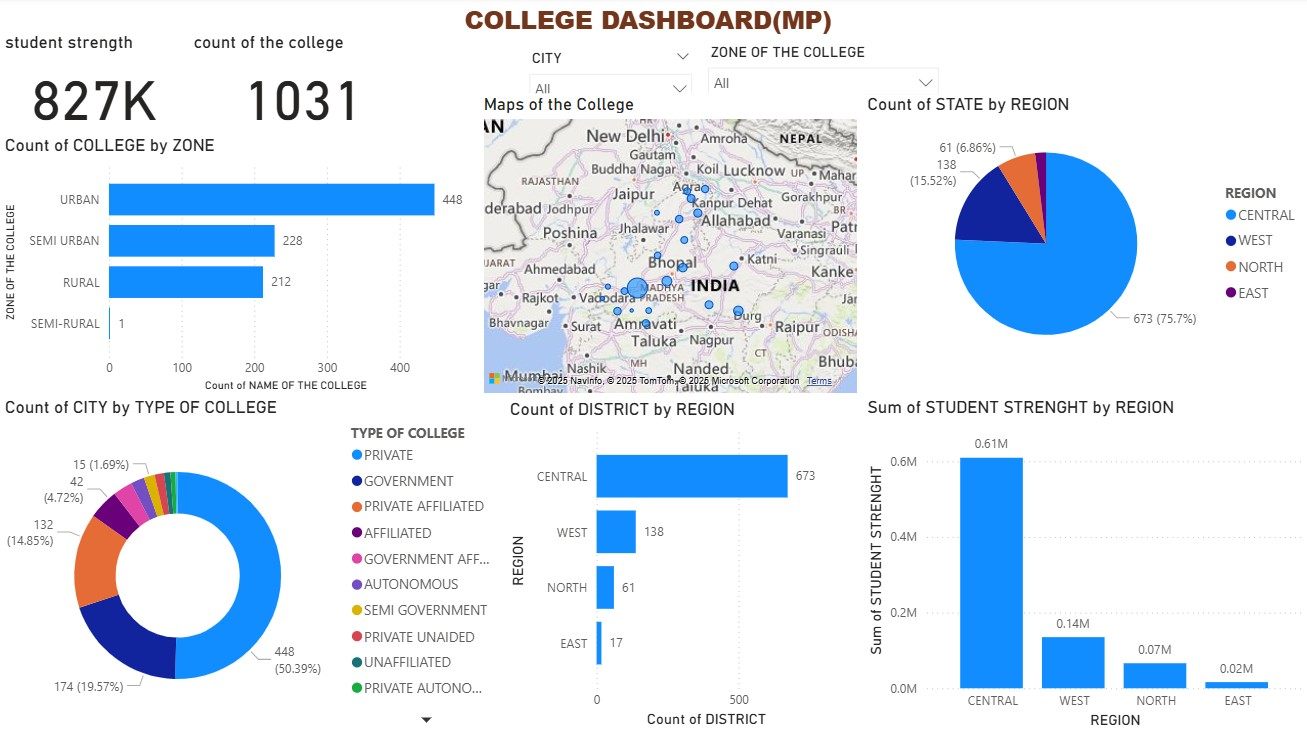

What the dashboard file says about the page in this screenshot:
{"tool":"powerbi","page":{"name":"Page 1","canvas":[1280,720],"ordinal":0},"visuals":[{"type":"textbox","box":[184.6,0,898.8,46.5],"z":0},{"type":"donutChart","fields":{"Category":["Table1.TYPE OF COLLEGE"],"Y":["CountNonNull(Table1.CITY)"]},"box":[0,391.3,494,328.9],"z":1000},{"type":"pieChart","fields":{"Category":["Table1.REGION"],"Y":["CountNonNull(Table1.STATE)"]},"box":[843.8,94.2,436.6,273.9],"z":2000},{"type":"card","title":"student strength","fields":{"Values":["Sum(Table1.STUDENT STRENGHT)"]},"box":[0,34.2,184.6,100.3],"z":3000},{"type":"card","title":"count of the college","fields":{"Values":["Count(Table1.NAME OF THE COLLEGE)"]},"box":[184.6,34.2,223.8,100.3],"z":4000},{"type":"slicer","fields":{"Values":["Table1.CITY"]},"box":[507.7,46.7,179.8,75.5],"z":5000},{"type":"slicer","fields":{"Values":["Table1.ZONE OF THE COLLEGE"]},"box":[682,39.8,245.6,54.9],"z":6000},{"type":"barChart","title":"Count of COLLEGE by ZONE ","fields":{"Category":["Table1.ZONE OF THE COLLEGE"],"Y":["CountNonNull(Table1.NAME OF THE COLLEGE)"]},"box":[0,134.5,468.3,256.8],"z":7000},{"type":"columnChart","fields":{"Category":["Table1.REGION"],"Y":["Sum(Table1.STUDENT STRENGHT)"]},"box":[843.8,391.3,436.6,328.9],"z":8000},{"type":"map","title":"Maps of the College","fields":{"Category":["Table1.DISTRICT"],"Size":["Sum(Table1.STUDENT STRENGHT)"]},"box":[468.3,94.2,375.4,298.4],"z":9000},{"type":"barChart","fields":{"Category":["Table1.REGION"],"Y":["CountNonNull(Table1.DISTRICT)"]},"box":[494,393,320,327],"z":10000}]}

Visuals, with their boxes in screenshot pixels (x1, y1, x2, y2), scaled from the page's 1280x720 canvas onto the 1307x732 screenshot:
textbox: 188,0,1106,47
donutChart - Table1.TYPE OF COLLEGE x CountNonNull(Table1.CITY): 0,398,504,731
pieChart - Table1.REGION x CountNonNull(Table1.STATE): 862,96,1306,374
"student strength" card: 0,35,188,137
"count of the college" card: 188,35,417,137
slicer - Table1.CITY: 518,47,702,124
slicer - Table1.ZONE OF THE COLLEGE: 696,40,947,96
"Count of COLLEGE by ZONE " barChart: 0,137,478,398
columnChart - Table1.REGION x Sum(Table1.STUDENT STRENGHT): 862,398,1306,731
"Maps of the College" map: 478,96,861,399
barChart - Table1.REGION x CountNonNull(Table1.DISTRICT): 504,400,831,731
